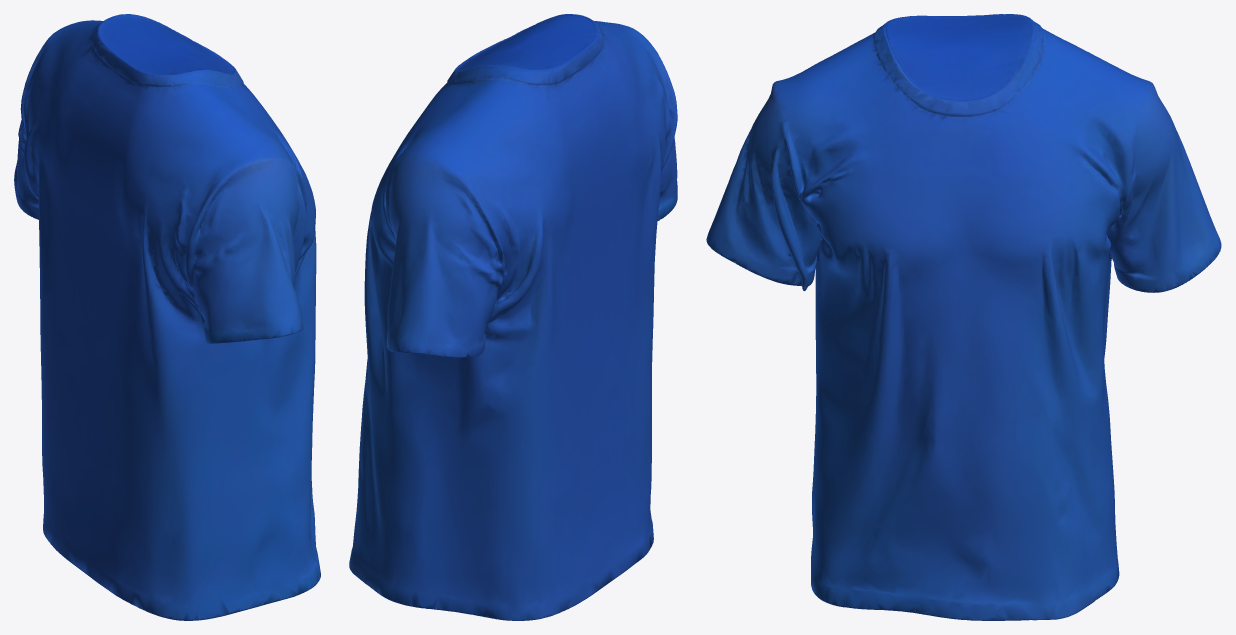
File: 1a3afa48_simplified.glb
3 views of the same model, side by side, from view 1: azimuth 30°, elevation 25°; view 2: azimuth 150°, elevation 25°; view 3: azimuth 270°, elevation 25° (orthographic). The views are drawn at different scales.
Parts seen in each view (by area): view 1: tripo_node_13cfaf6a-ff1f-41f4-893d-0e95cbad9d61; view 2: tripo_node_13cfaf6a-ff1f-41f4-893d-0e95cbad9d61; view 3: tripo_node_13cfaf6a-ff1f-41f4-893d-0e95cbad9d61.
Boxes of the visible parts, x1=… form: tripo_node_13cfaf6a-ff1f-41f4-893d-0e95cbad9d61: x1=14, y1=14, x2=320, y2=620; tripo_node_13cfaf6a-ff1f-41f4-893d-0e95cbad9d61: x1=349, y1=14, x2=677, y2=620; tripo_node_13cfaf6a-ff1f-41f4-893d-0e95cbad9d61: x1=706, y1=14, x2=1221, y2=620.
Size of the model in its own units: 0.4345 by 0.9999 by 0.8761.
Materials: 1 (1 with a texture image).
